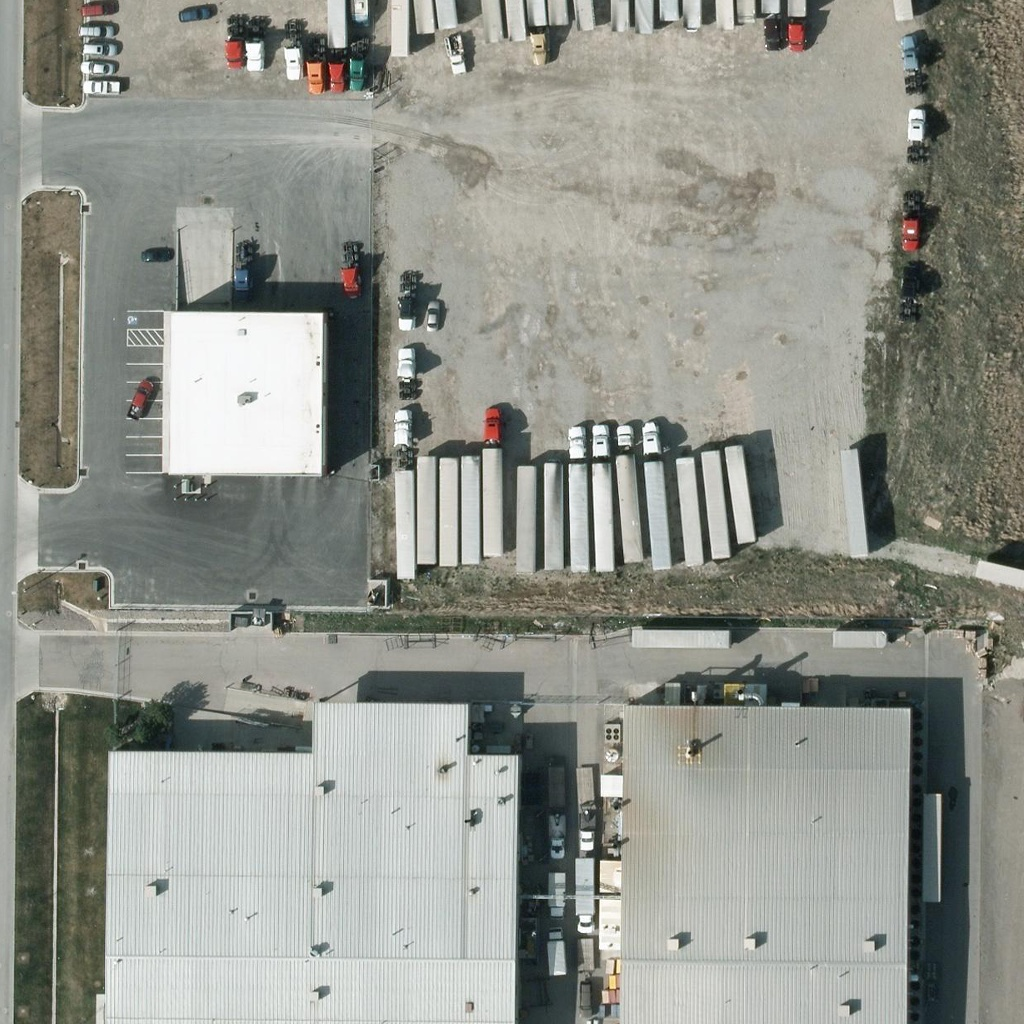car: (439, 41, 473, 75), (568, 983, 602, 1017), (83, 79, 122, 97), (424, 299, 444, 333), (179, 3, 213, 21), (81, 60, 116, 75), (82, 41, 117, 56), (78, 21, 113, 36), (81, 1, 116, 15), (143, 248, 172, 263)
pickup: (131, 381, 155, 420)
truck: (340, 240, 363, 299), (897, 265, 919, 321), (901, 195, 923, 251), (905, 108, 927, 164), (900, 37, 922, 93), (230, 240, 253, 292), (225, 13, 248, 65), (245, 18, 268, 70), (280, 25, 303, 77), (304, 43, 327, 95), (343, 36, 366, 88), (396, 347, 416, 400), (393, 412, 413, 465), (481, 405, 501, 458), (566, 424, 586, 461), (589, 422, 609, 459), (640, 419, 660, 456)
